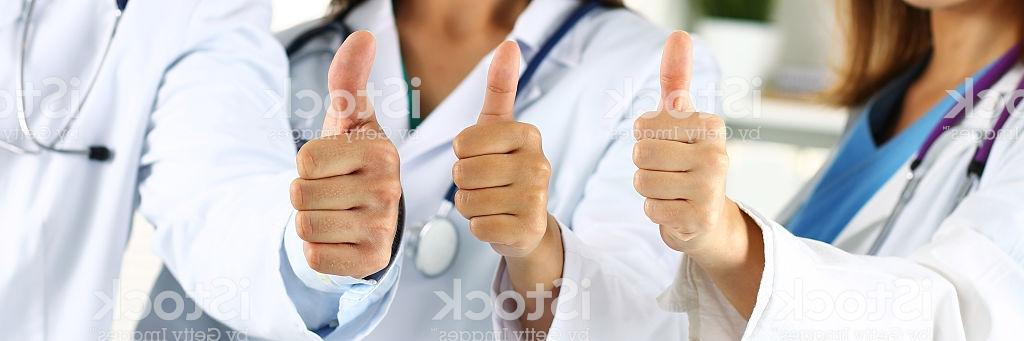thumbsup: (287, 29, 404, 280), (448, 38, 553, 260), (629, 28, 732, 254)
